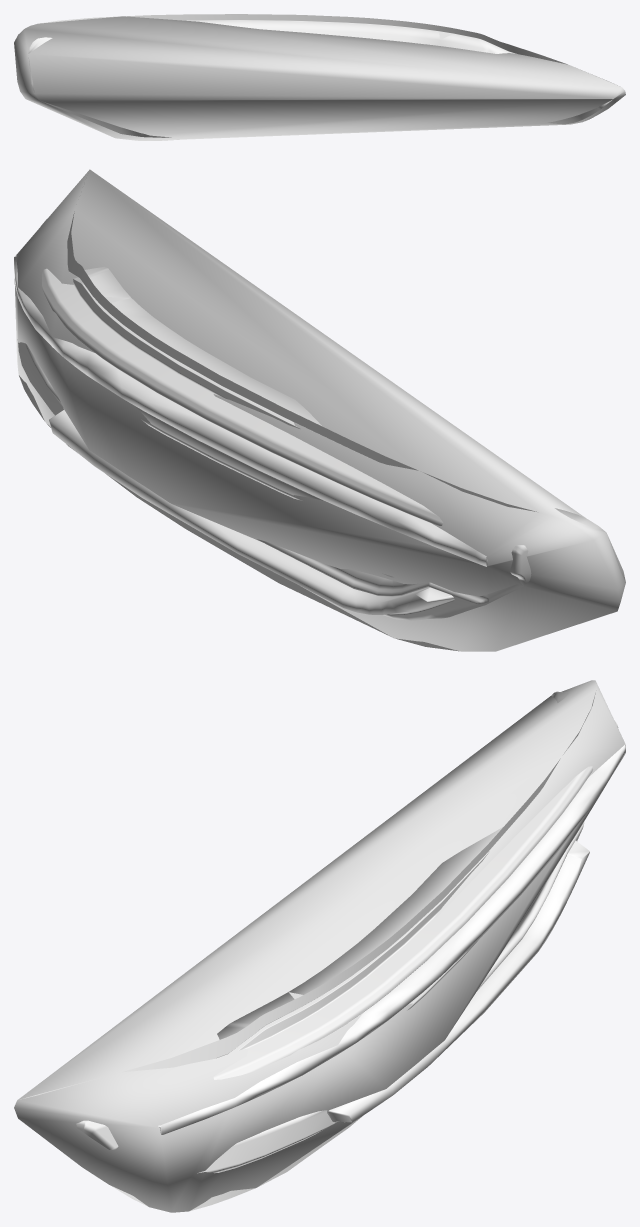
3 views of the same model, one above another, from view 1: azimuth 30°, elevation 25°; view 2: azimuth 150°, elevation 25°; view 3: azimuth 270°, elevation 25° (orthographic). The views are drawn at different scales.
Visible parts, largest first — view 1: light_eclipse_tail_r_01_col, light_eclipse_tail_r_01; view 2: light_eclipse_tail_r_01_col, light_eclipse_tail_r_01; view 3: light_eclipse_tail_r_01_col, light_eclipse_tail_r_01.
Part boxes in pixels (bbox=[...]): light_eclipse_tail_r_01_col: bbox=[14, 16, 625, 140]; light_eclipse_tail_r_01: bbox=[28, 14, 617, 140]; light_eclipse_tail_r_01_col: bbox=[14, 169, 625, 651]; light_eclipse_tail_r_01: bbox=[14, 211, 625, 651]; light_eclipse_tail_r_01_col: bbox=[14, 680, 625, 1212]; light_eclipse_tail_r_01: bbox=[20, 691, 625, 1210].
Bounding box in the file's own units: 0.6246 × 0.1579 × 0.432.
2 materials, 1 textured.
